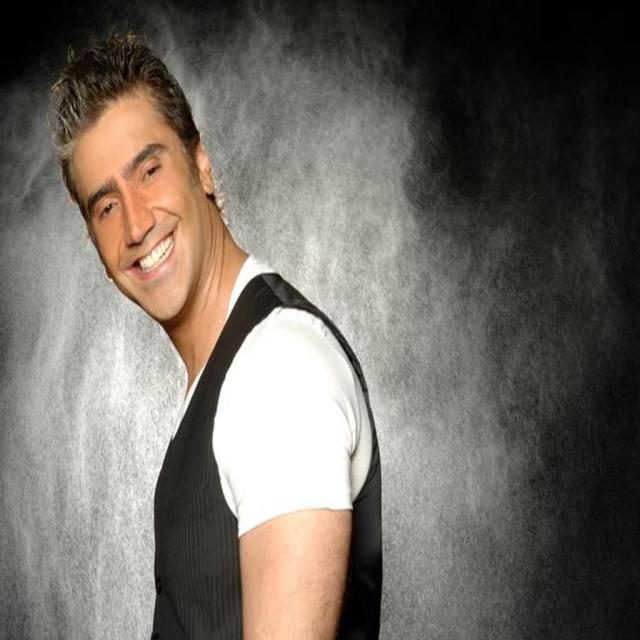Face: (57, 99, 208, 322)
